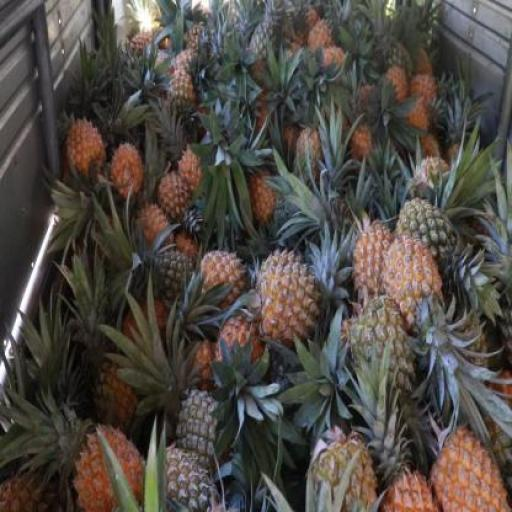------------------------------: (348, 305, 416, 406), (396, 201, 460, 299), (93, 356, 143, 432), (165, 70, 198, 128)
Pineapple - v8 v1: (71, 424, 148, 511), (382, 235, 444, 337), (430, 429, 506, 512), (256, 252, 318, 347), (350, 228, 400, 316), (218, 316, 264, 394), (63, 114, 103, 175), (202, 254, 245, 310), (158, 170, 196, 218), (108, 144, 138, 203)
